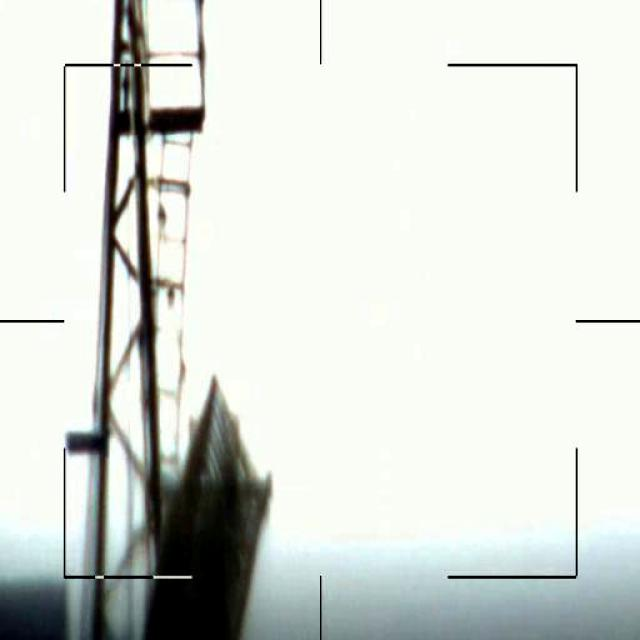bird: (64, 425, 112, 455)
